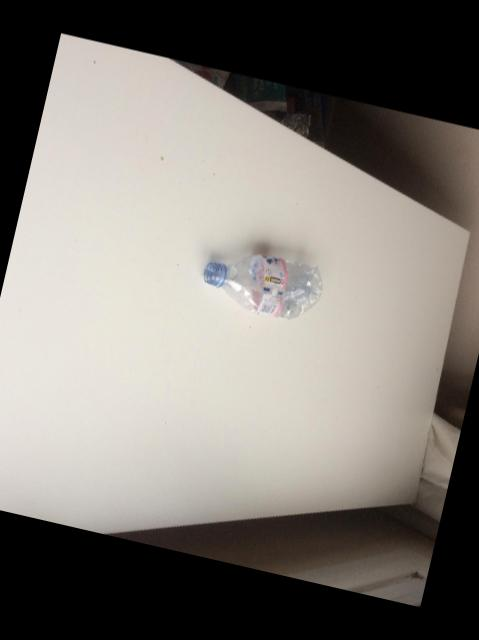plastic: (202, 254, 320, 318)
